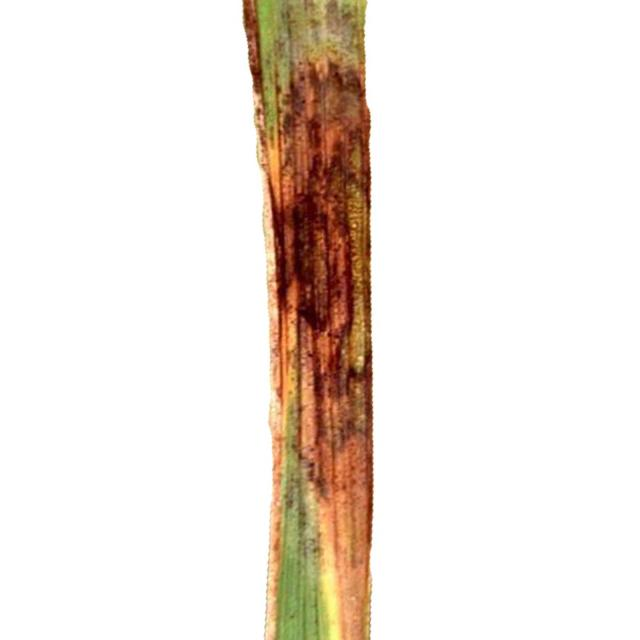Leaf scald: (150, 0, 472, 640)
